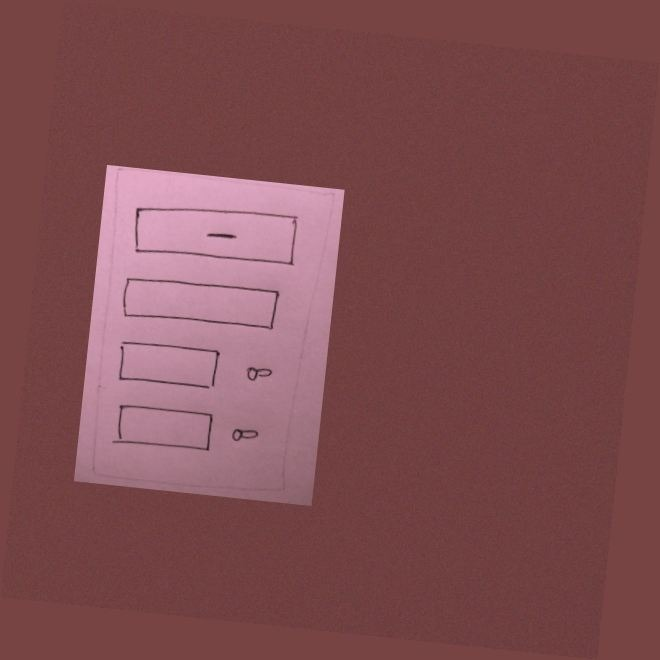button: (123, 193, 305, 276)
switch: (225, 419, 267, 455), (239, 359, 278, 390)
text_input: (115, 272, 284, 337), (110, 336, 227, 395), (107, 399, 220, 460)
